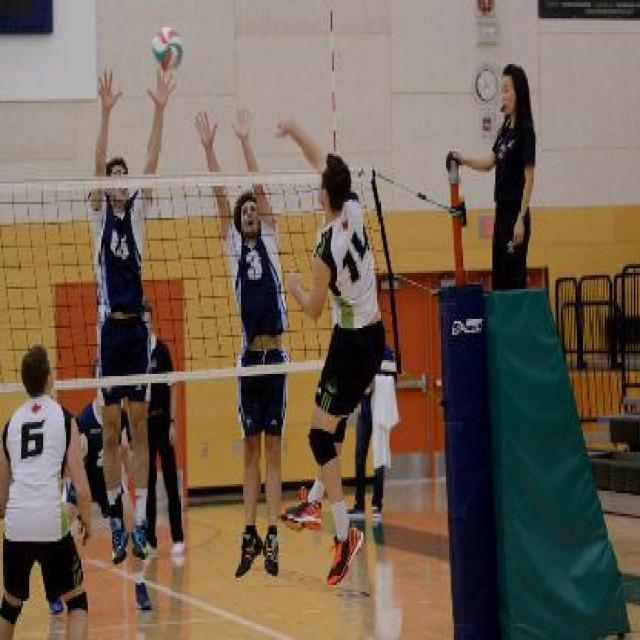volleyball: (152, 28, 184, 72)
